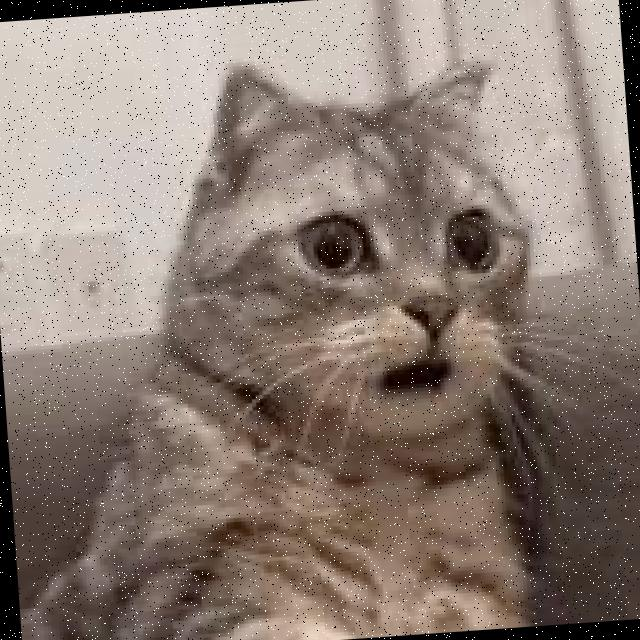Surprised: (232, 155, 533, 424)
